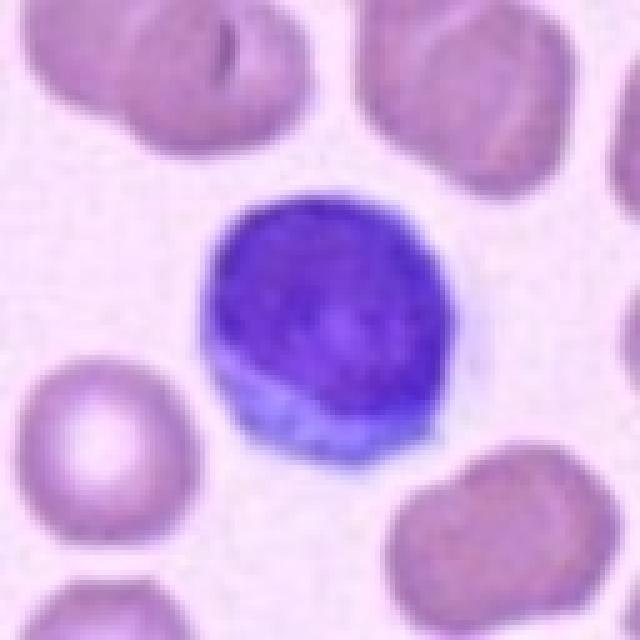lympho: (196, 189, 465, 472)
